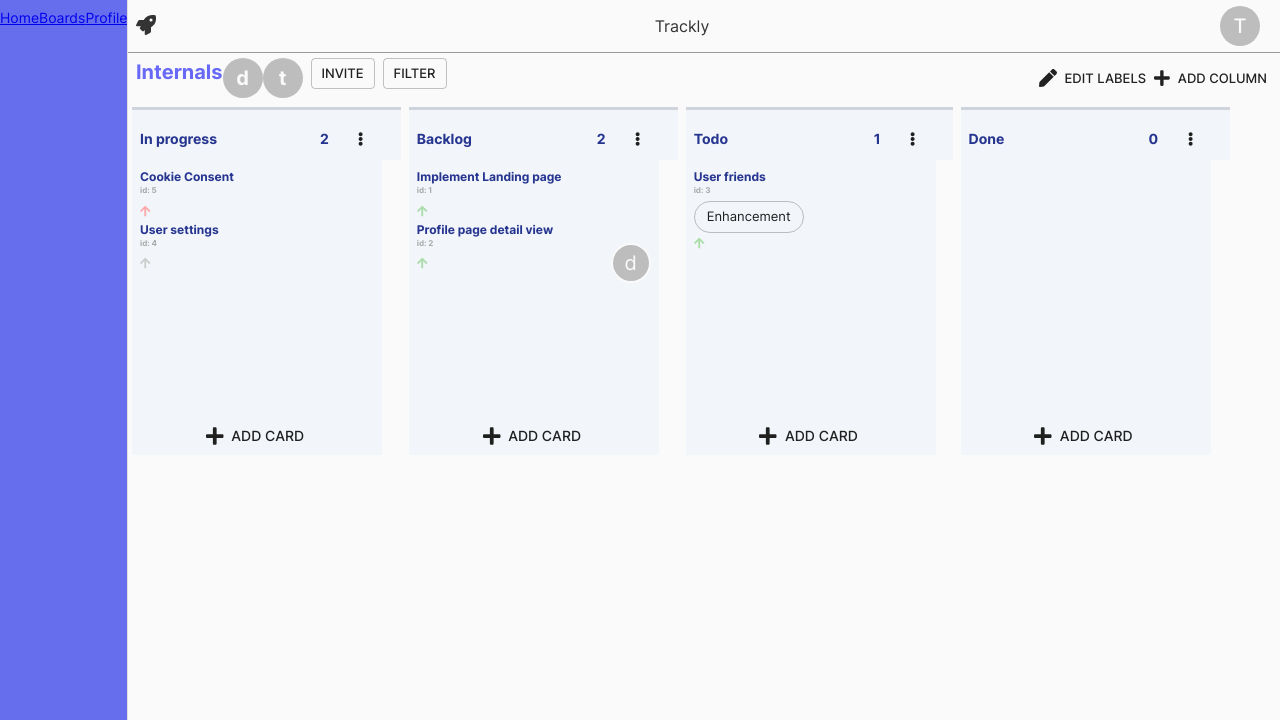
Task › should successfully edit task title via blur and enter
The image size is (1280, 720).
Click the button with test id "task-1".
click(534, 195)  # box [417, 168, 651, 221]
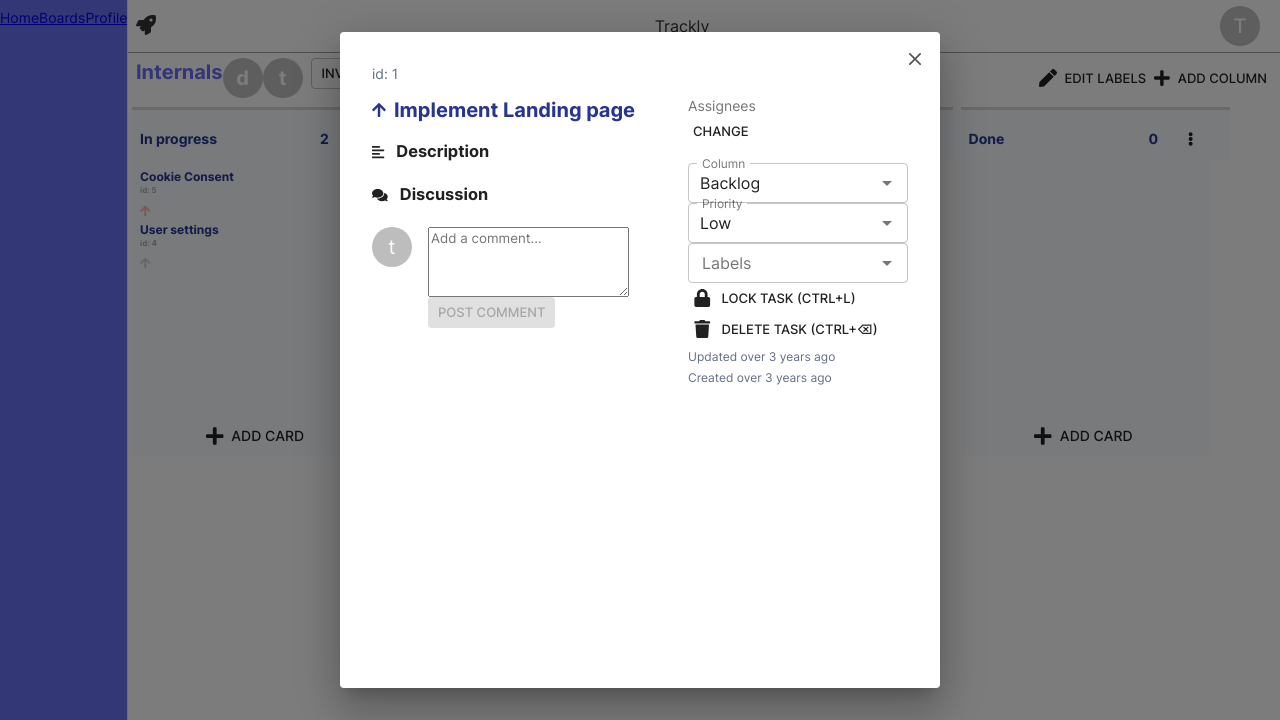
Replace the text in the text box with test id "task-title" with "Fresh" at (524, 110), box [392, 96, 656, 124]
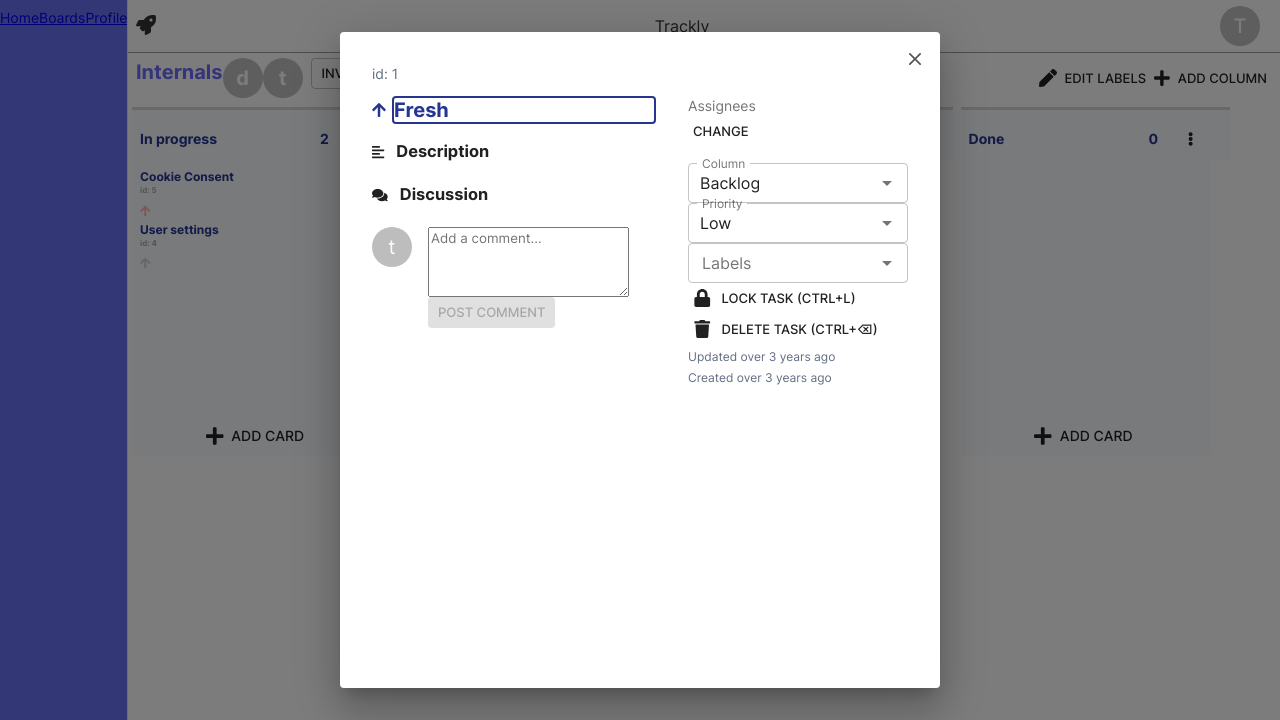
Click the heading "Description".
click(443, 152)  # box [396, 140, 489, 163]
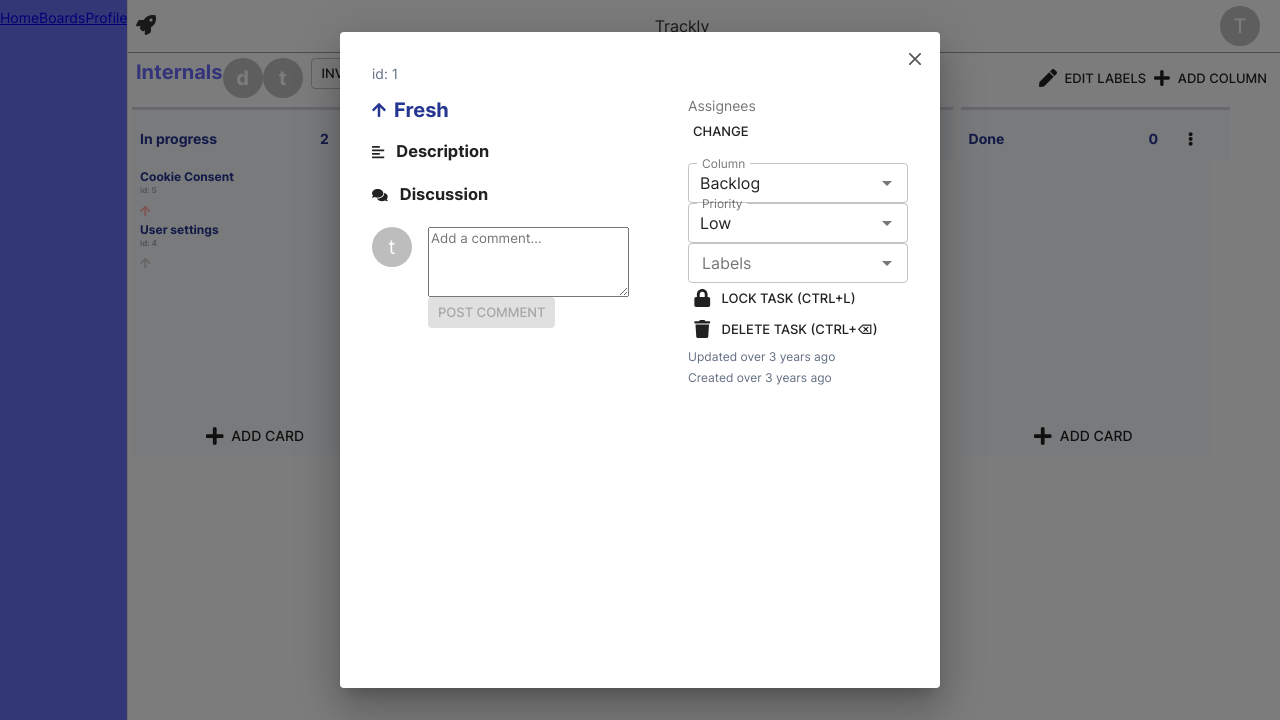
Result: the text box "Fresh" is shown
Type " one" into the text box "Fresh".
click(524, 110); type(" one")  # box [392, 96, 656, 124]
Then press Enter
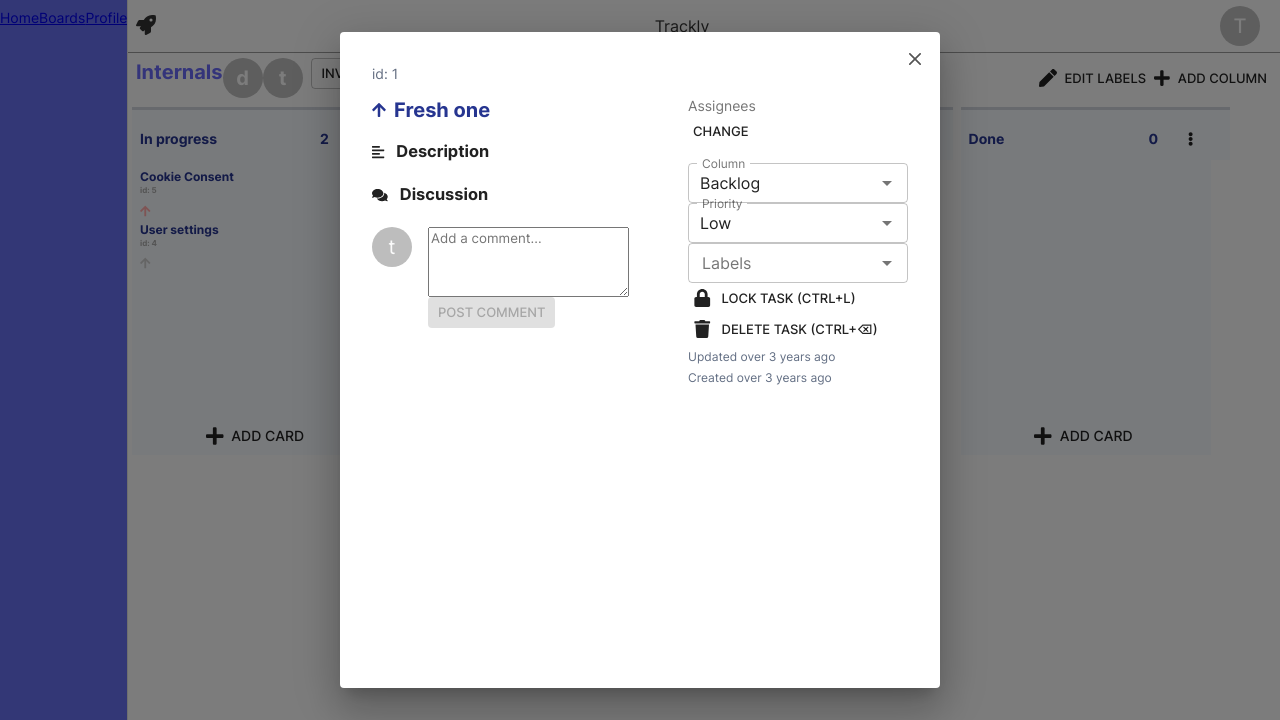
Result: the text box "Fresh one" is shown at [392, 96, 656, 124]
